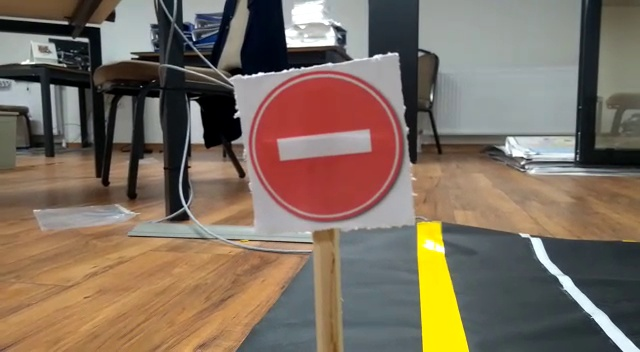girisi_olmayan_yol: (228, 62, 417, 229)
